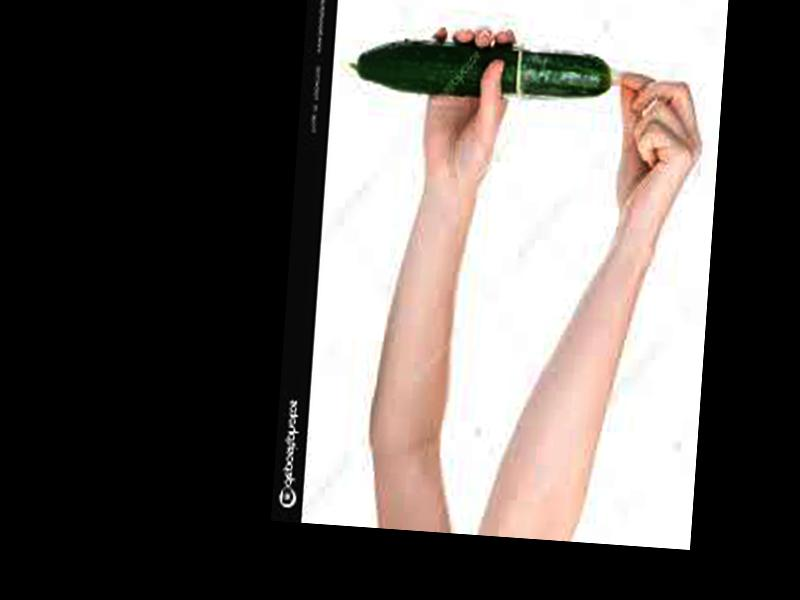Cucumber: (349, 37, 613, 102)
